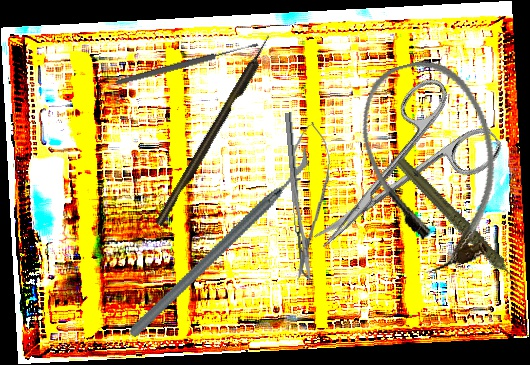Cannula: (347, 48, 520, 281)
Chopper: (89, 144, 352, 339)
Handpiece: (394, 139, 522, 311)
Hook Surgical: (153, 33, 276, 228)
Iris Scissors: (281, 66, 508, 282)
Micro Scissor: (283, 120, 333, 283)
Spatula Surgical: (284, 111, 313, 281)
Surgical Spoon: (114, 40, 260, 88)
